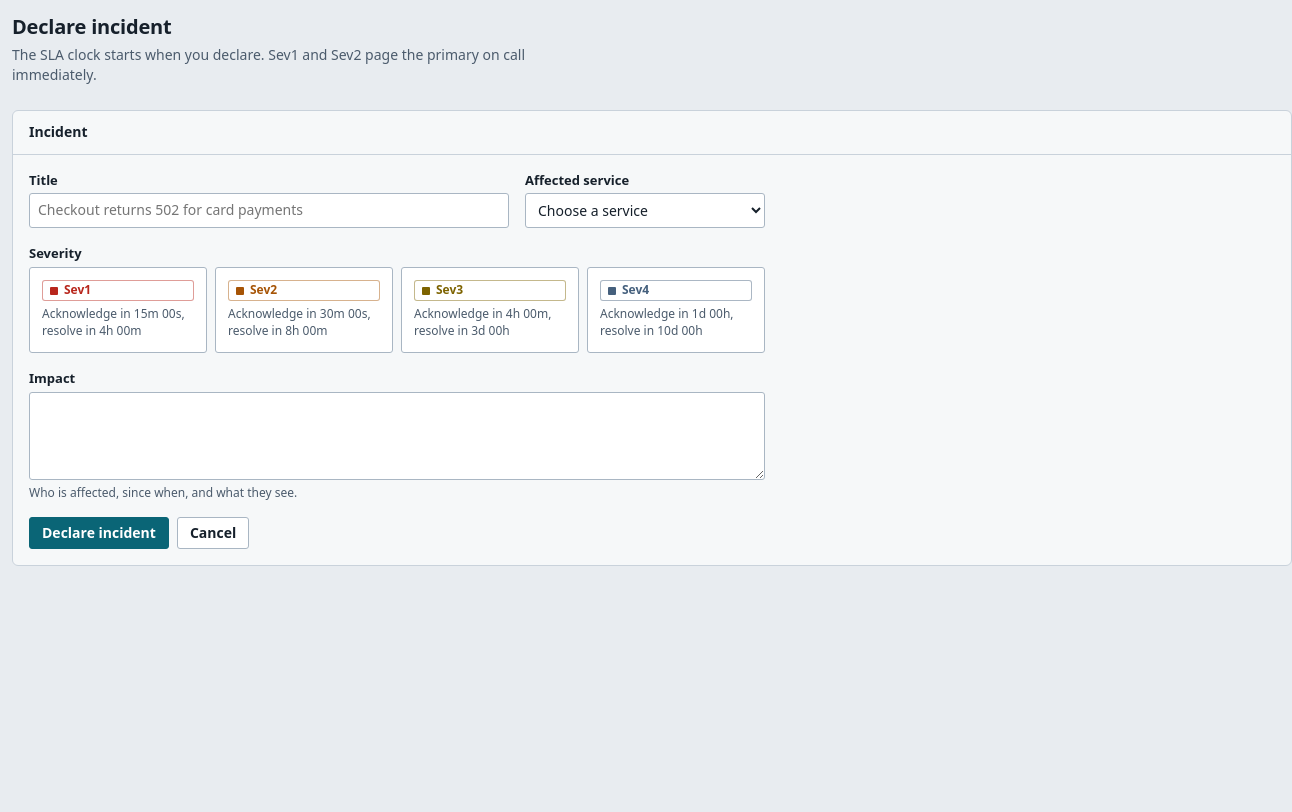
Scenario: DeclareIncidentPage › validates every field before declaring
The image size is (1292, 812).
Click the button "Declare incident" at [99, 533], box [29,517,169,549]
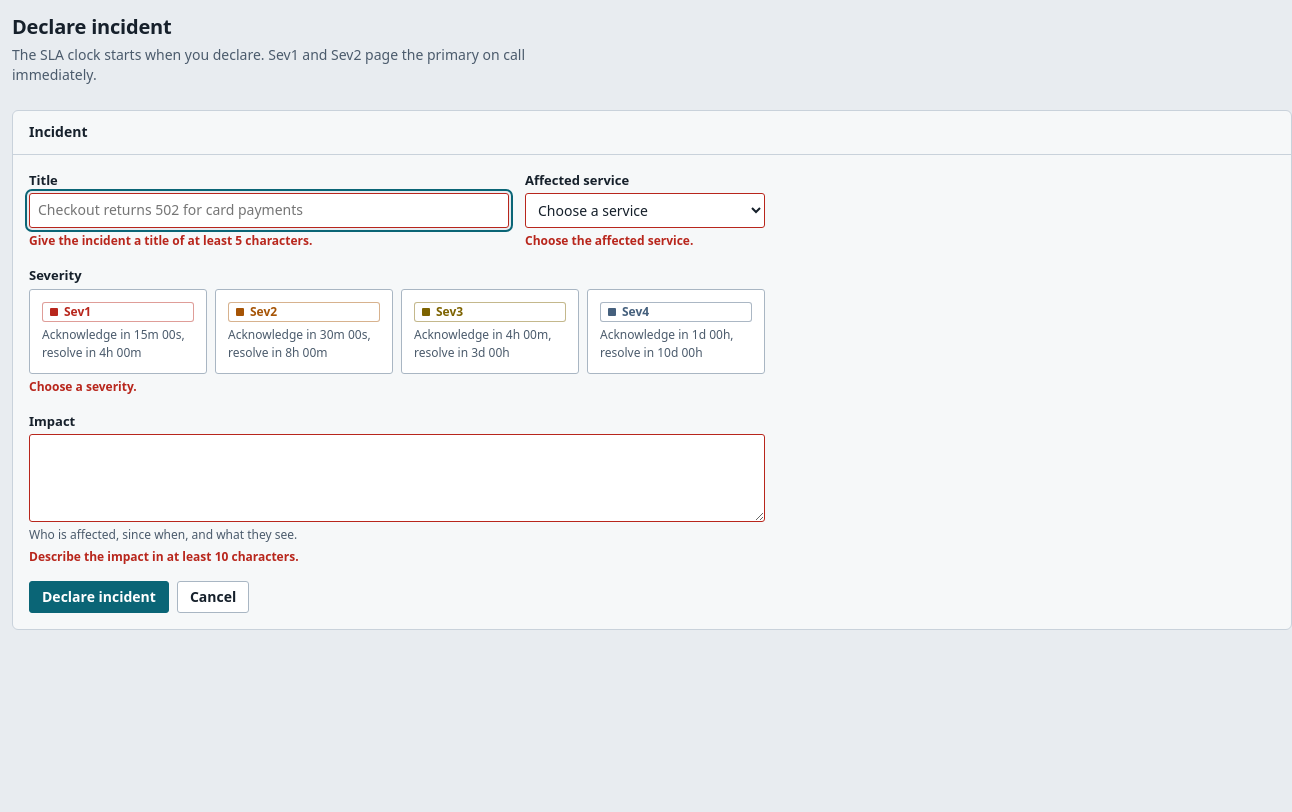
Expected: the text "Give the incident a title of at least 5 characters." is shown, [29,232,312,249]
Expected: the text "Choose the affected service." is shown, [525,232,693,249]
Expected: the text "Choose a severity." is shown, [29,378,137,395]
